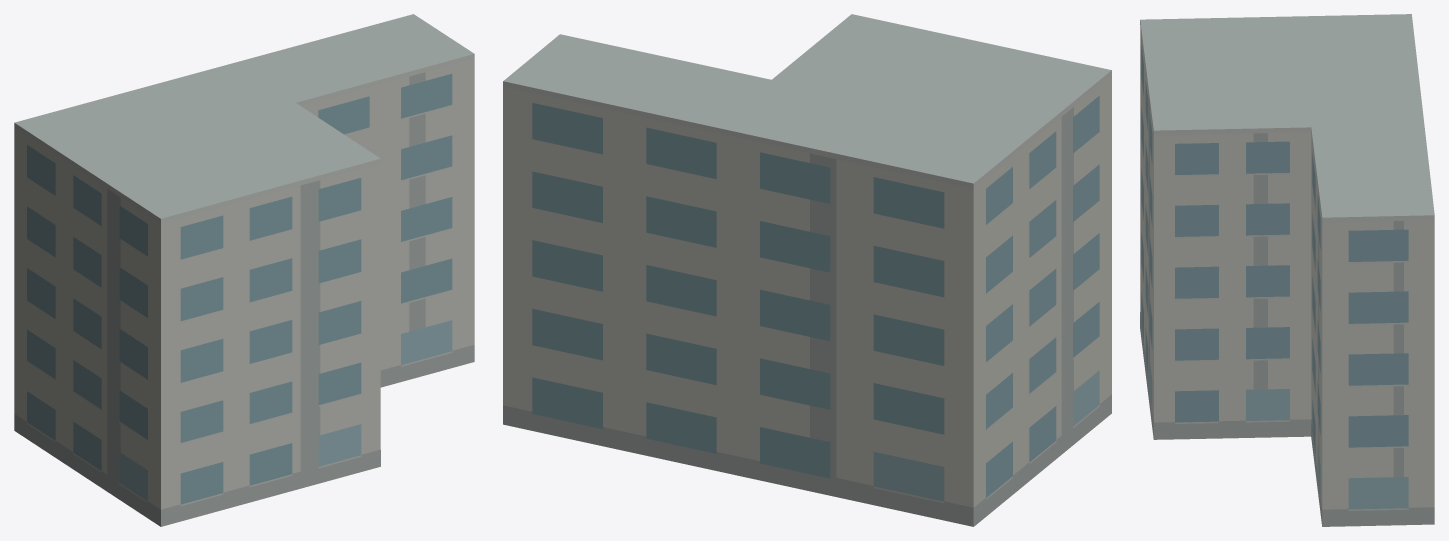
File: survey-upis-32629993.glb
The picture shows the model from 3 angles, left to right: view 1: azimuth 30°, elevation 25°; view 2: azimuth 150°, elevation 25°; view 3: azimuth 270°, elevation 25°; orthographic projection. The views are drawn at different scales.
Visible parts, largest first — view 1: survey-upis-32629993.tmp; view 2: survey-upis-32629993.tmp; view 3: survey-upis-32629993.tmp.
Boxes of the visible parts, x1,y1,x2,y2 form: survey-upis-32629993.tmp: (14, 14, 474, 526); survey-upis-32629993.tmp: (503, 14, 1111, 526); survey-upis-32629993.tmp: (1140, 14, 1434, 526).
Size of the model in its own units: 21.55 by 15.25 by 13.18.
